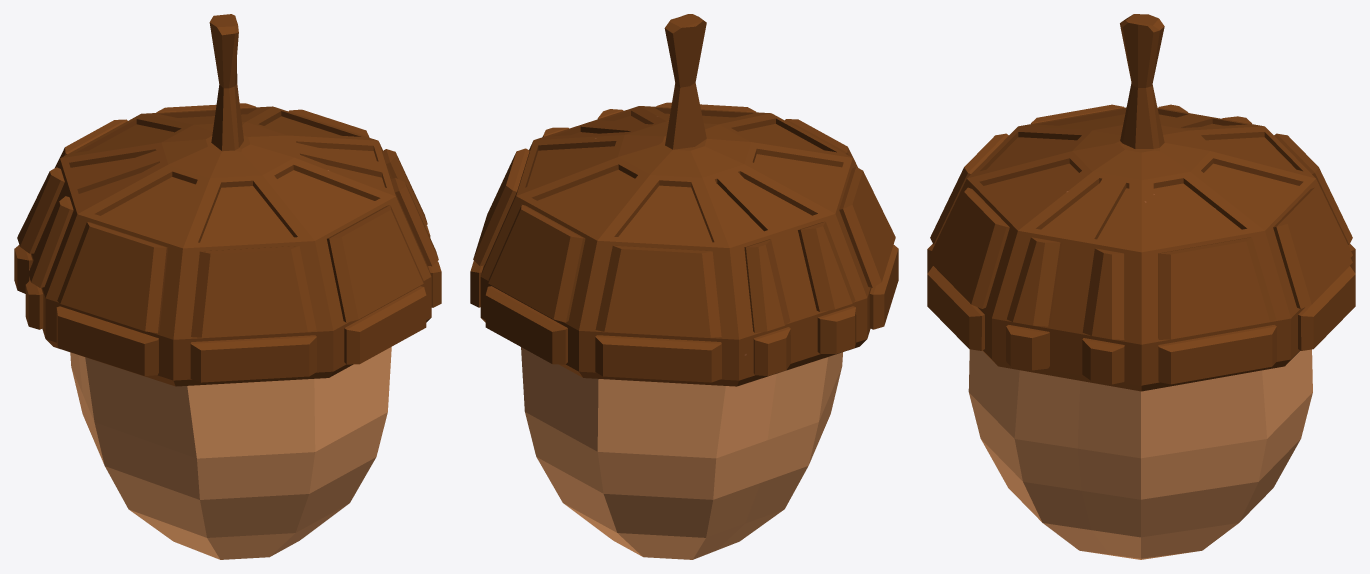
The model's file is Acron_Giant_000.1.fbx.
The picture shows the model from 3 angles, left to right: view 1: azimuth 30°, elevation 25°; view 2: azimuth 150°, elevation 25°; view 3: azimuth 270°, elevation 25°; orthographic projection.
Visible parts, largest first — view 1: Acorn.001; view 2: Acorn.001; view 3: Acorn.001.
Boxes of the visible parts, bbox=[...] form: Acorn.001: bbox=[14, 14, 441, 559]; Acorn.001: bbox=[470, 14, 898, 559]; Acorn.001: bbox=[927, 14, 1355, 559].
Bounding box in the file's own units: 238 × 331 × 238.
